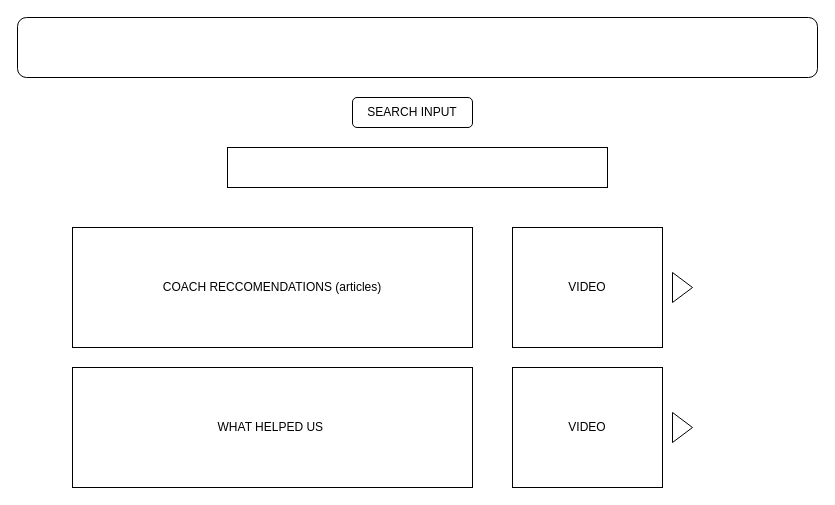
This 835x505 diagram has some shape labels left out. The box of each missing label's shape, as (x1, y1, x2, y2) in pixels:
PAGE TITLE: (16, 16, 818, 78)
SUBHEADING WITH EXPLANATION AND EXAMPLE CODE: (226, 146, 608, 188)
